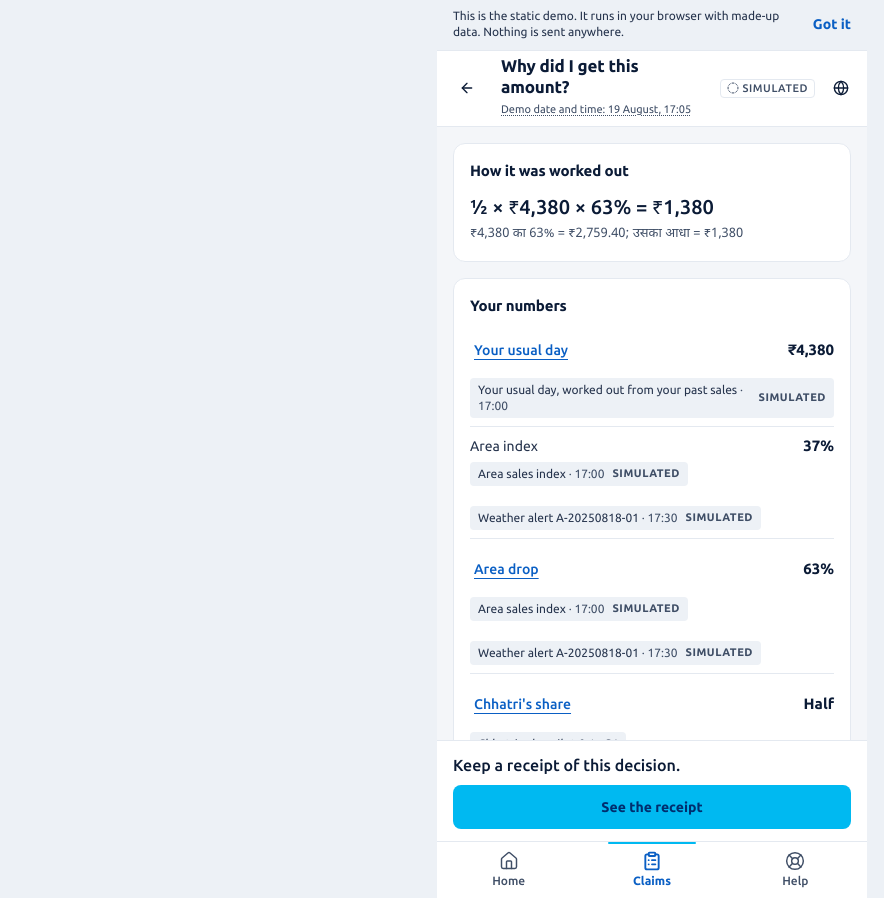
Test case: what this screen leads to › says see_receipt next, and the bar opens the receipt of this decision
The width and height of the screenshot is (884, 898).
Click the button with test id "app-nba-action". click: (652, 807)
box: x1=453 y1=785 x2=851 y2=829
(page scrolled)
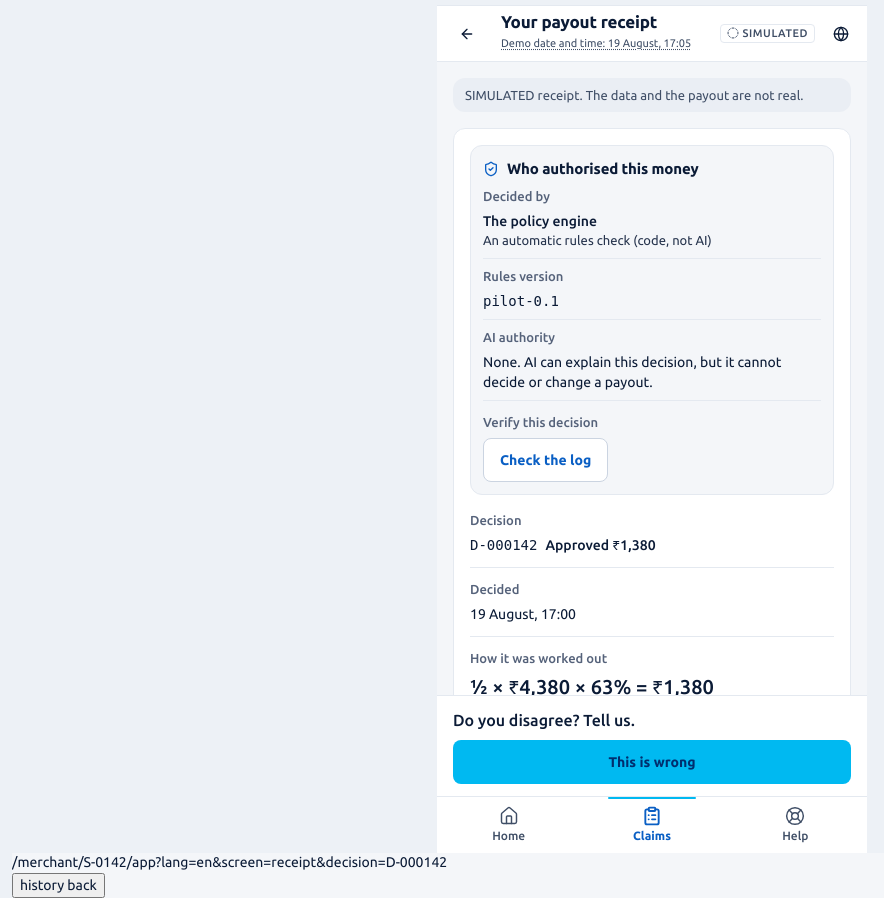
Check: the text with test id "probe-location" reads "/merchant/S-0142/app?lang=en&screen=receipt&decision=D-000142", box x1=12 y1=854 x2=447 y2=870
